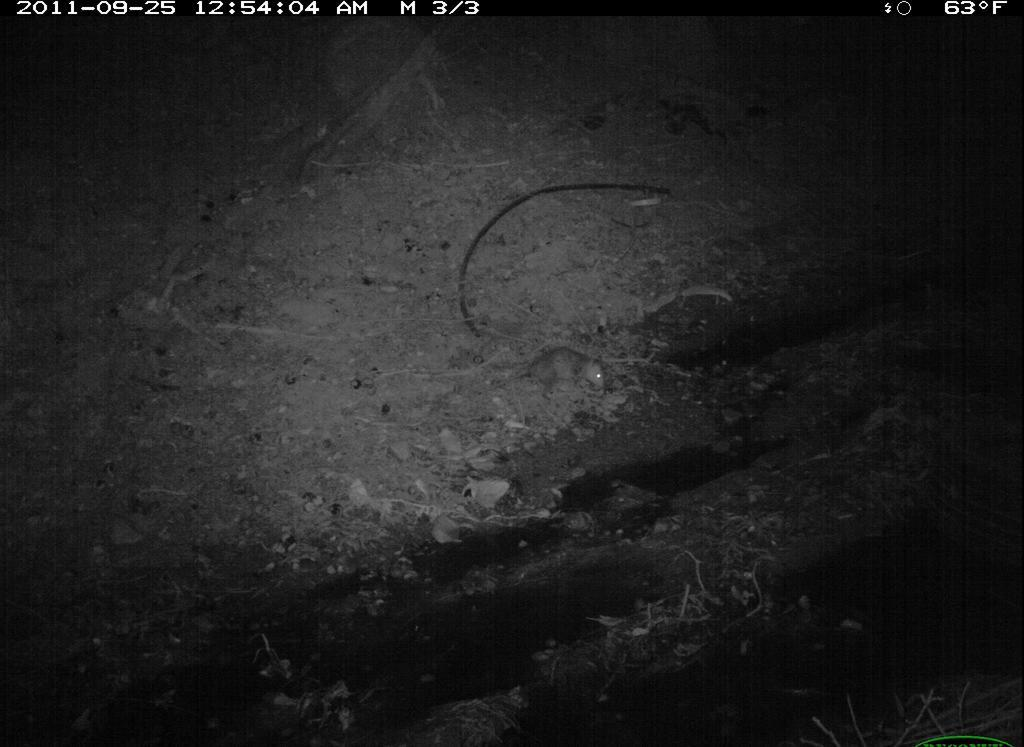opossum: (489, 336, 615, 410)
